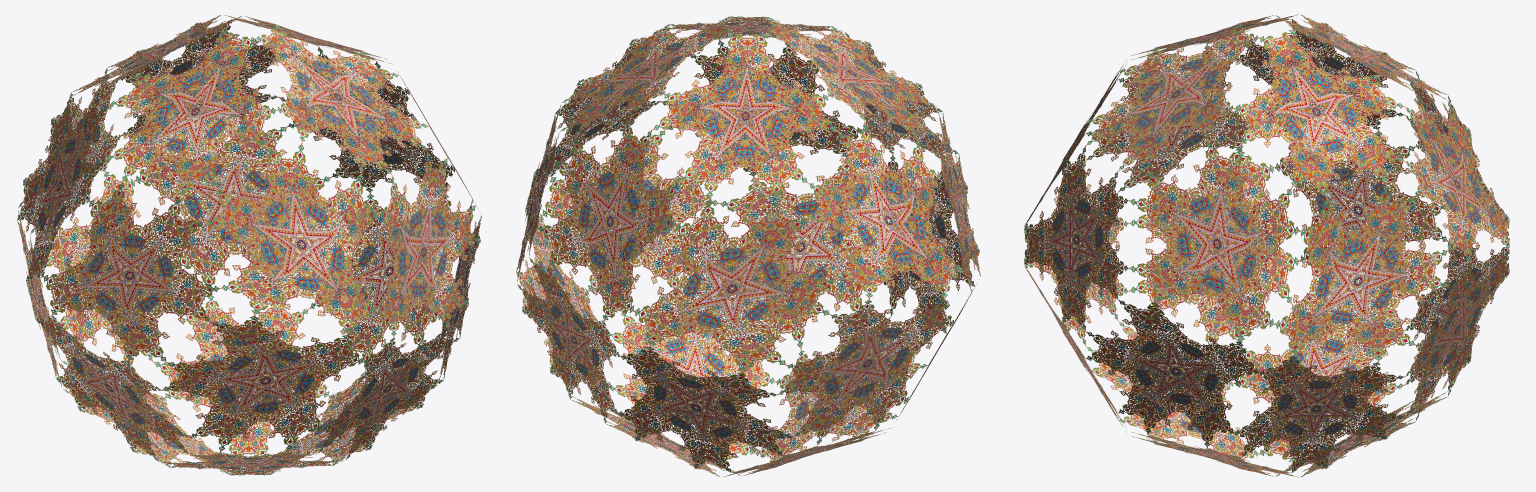
File: PentagonalIcositetrahedron4.obj
3 views of the same model, side by side, from view 1: azimuth 30°, elevation 25°; view 2: azimuth 150°, elevation 25°; view 3: azimuth 270°, elevation 25° (orthographic).
Size of the model in its own units: 2.72 by 2.72 by 2.72.
1 material, 1 textured.
